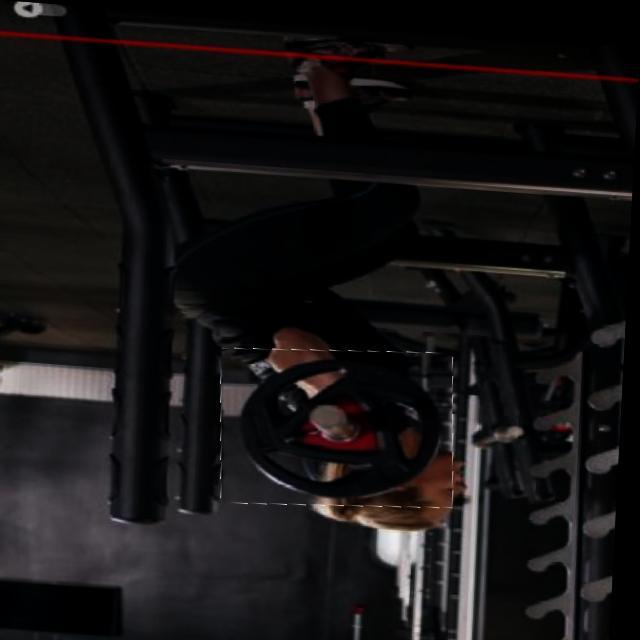barbell: (222, 337, 463, 510)
